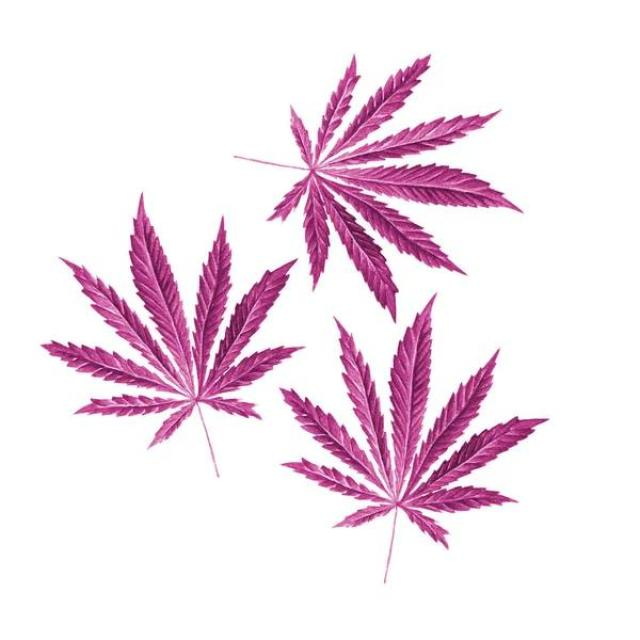cannabis: (279, 292, 548, 588), (234, 53, 523, 326), (41, 195, 305, 479)
